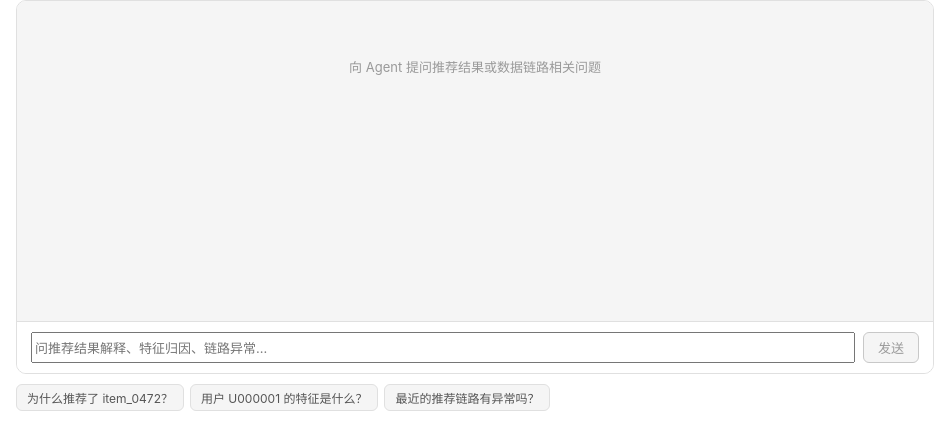
AgentChat › shows loading indicator while streaming
Type "test" into the field with placeholder "问推荐结果解释、特征归因、链路异常…". click: (443, 348)
box: [31, 332, 855, 363]
Then press Enter
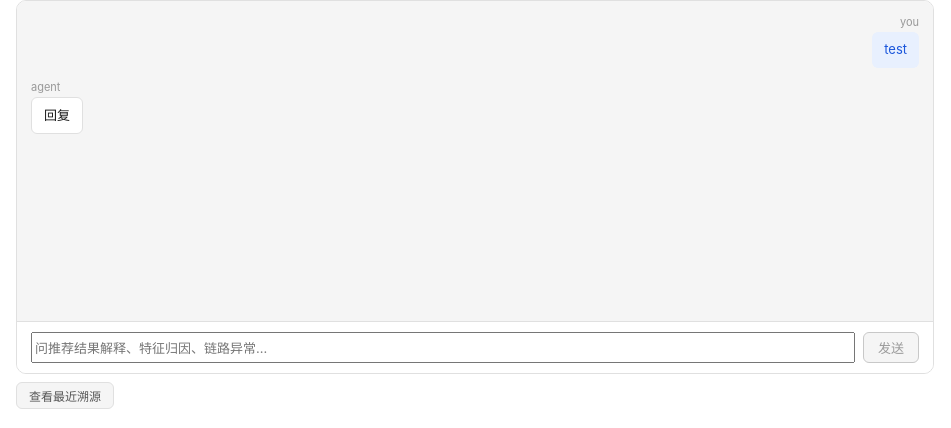
Expected: the button "思考中…" is shown, [863, 332, 919, 363]
Result: the text "回复" is shown at [44, 106, 70, 125]
